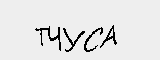А: (100, 21, 120, 49)
С: (83, 22, 103, 54)
Т: (32, 24, 49, 49)
У: (61, 26, 86, 56)
Ч: (45, 24, 64, 53)
